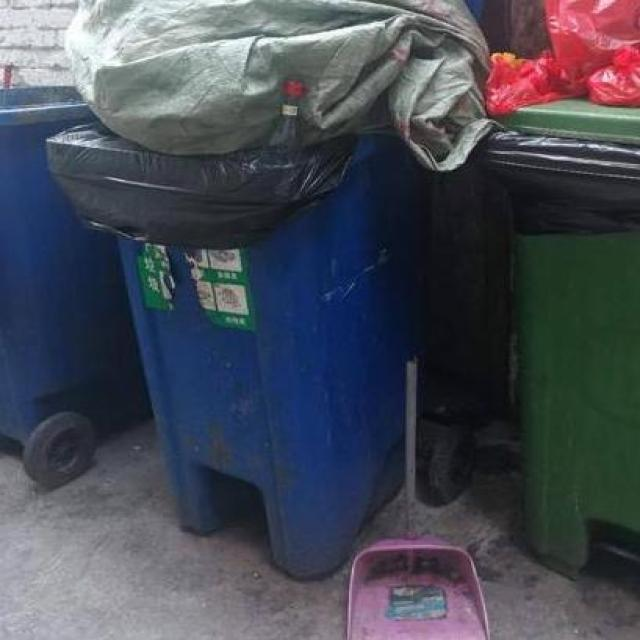garbage_bin: (0, 83, 153, 440)
overflow: (44, 0, 490, 580), (481, 0, 638, 574)
